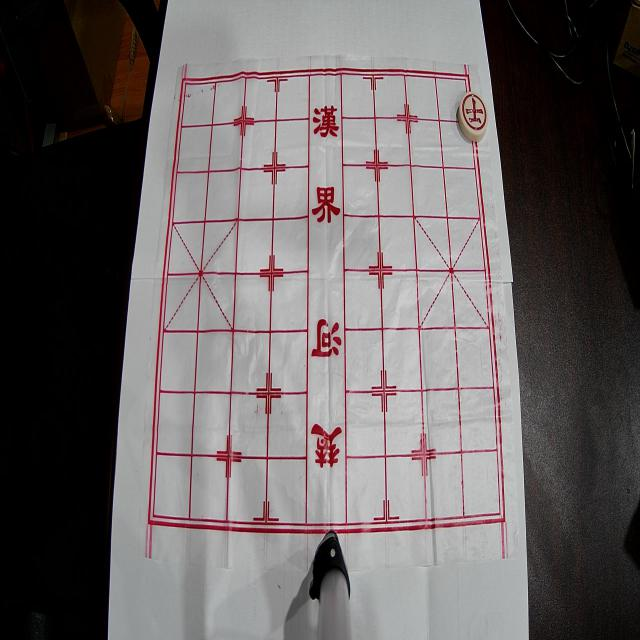red-guard: (458, 92, 488, 142)
